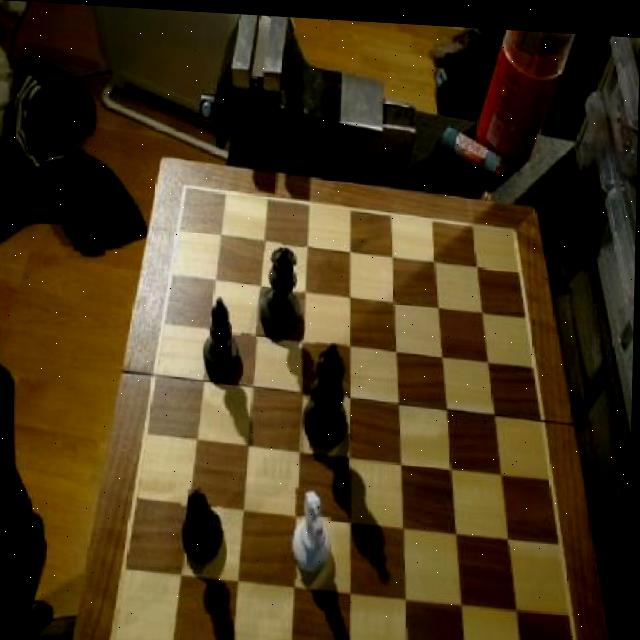bishop: (183, 484, 227, 572), (203, 291, 243, 380)
black-bishop: (298, 333, 351, 450)
black-pawn: (257, 237, 305, 338)
white-king: (289, 482, 335, 576)
